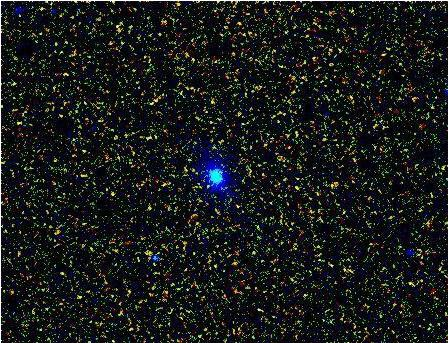star: (129, 237, 159, 267)
